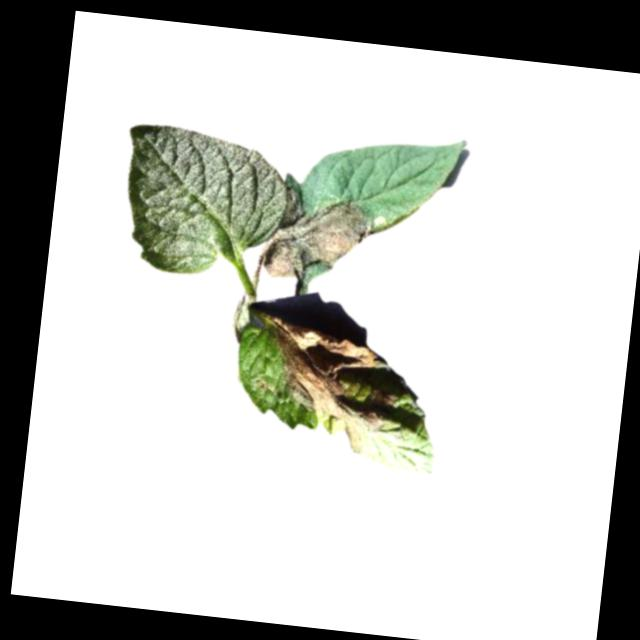Late_blight: (247, 312, 409, 458), (259, 190, 373, 288)
healthy: (114, 120, 293, 285)
